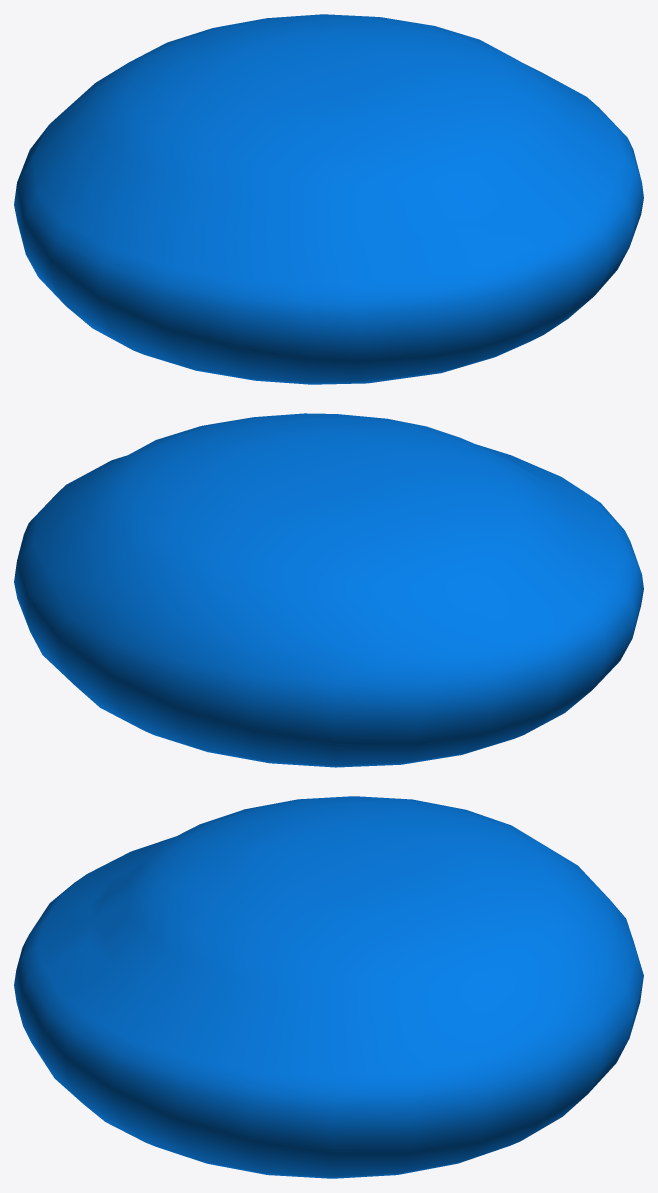
Rendered from SlimeAnimations.fbx.
3 views of the same model, one above another, from view 1: azimuth 30°, elevation 25°; view 2: azimuth 150°, elevation 25°; view 3: azimuth 270°, elevation 25° (orthographic). The views are drawn at different scales.
Parts seen in each view (by area): view 1: Circle; view 2: Circle; view 3: Circle.
Part boxes in pixels (<box>): Circle: <box>14,14,643,384</box>; Circle: <box>14,413,643,767</box>; Circle: <box>14,796,643,1178</box>.
Size of the model in its own units: 268 by 97.82 by 255.
